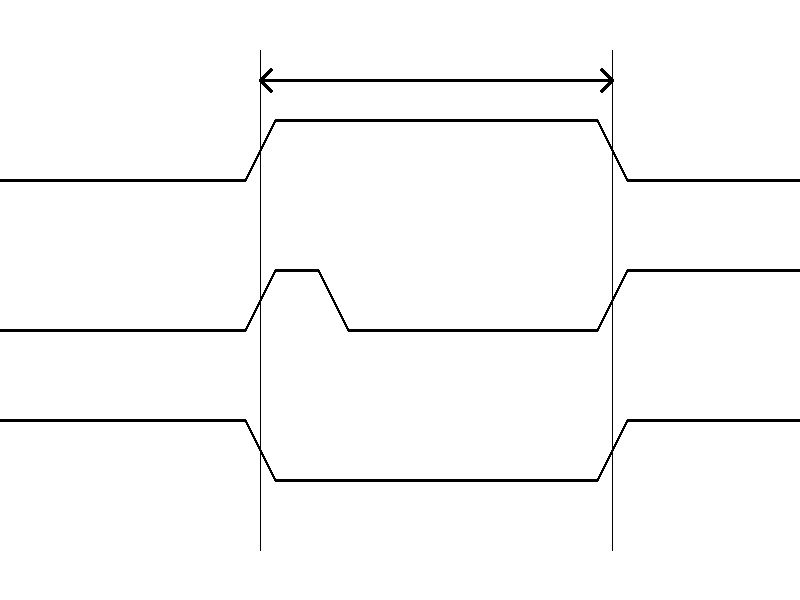double_arrow: (260, 65, 612, 95)
